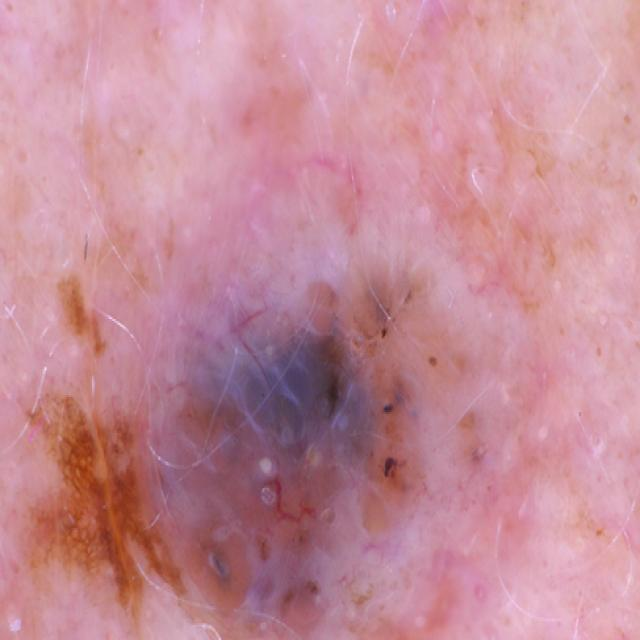Carcinoma: (0, 247, 456, 640)
